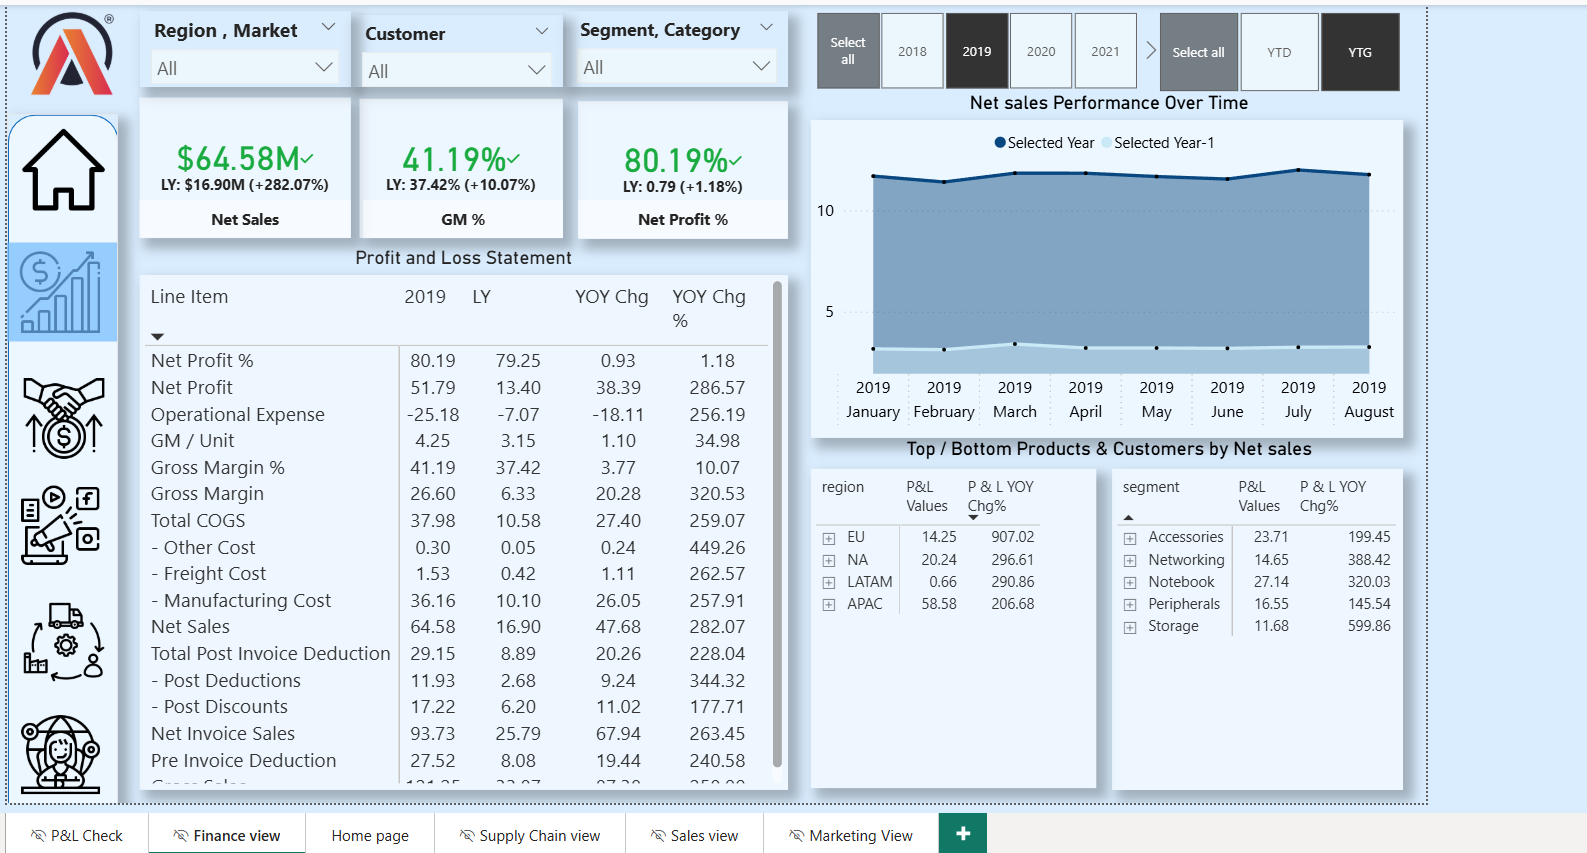

This screenshot's page, from the dashboard's own definition file:
{"tool":"powerbi","page":{"name":"Finance view","canvas":[1280,720],"ordinal":1},"visuals":[{"type":"pivotTable","fields":{"Rows":["P & l Rows.Line Item"],"Columns":["P & L Columns.Col header"],"Values":["Key Measure.P & L Final value"]},"box":[119.5,243.4,584.6,463.7],"z":0},{"type":"slicer","fields":{"Values":["Fiscal_year.FY_Desc"]},"box":[704.2,0,338.4,82.1],"z":1000},{"type":"slicer","fields":{"Values":["dim_date.YTD_YTG"]},"box":[1013.8,0,266.4,85],"z":2000},{"type":"areaChart","fields":{"Category":["dim_date.Date.Variation.Date Hierarchy.Month","dim_date.Date.Variation.Date Hierarchy.Year"],"Y":["Key Measure.P&L Values","Key Measure.P & L LY"]},"box":[724.3,103.7,534.2,286.6],"z":4000},{"type":"pivotTable","fields":{"Rows":["dim_market.region","dim_market.market","dim_customer.customer"],"Values":["Key Measure.P&L Values","Key Measure.P & L YOY Chg%"]},"box":[724.3,417.6,257.8,288],"z":5000},{"type":"pivotTable","fields":{"Rows":["dim_product.segment","dim_product.category"],"Values":["Key Measure.P&L Values","Key Measure.P & L YOY Chg%"]},"box":[996.5,417.6,262.1,289.4],"z":6000},{"type":"card","fields":{"Values":["Key Measure.Performance visual title"]},"box":[724.3,73.4,538.6,30.2],"z":7000},{"type":"card","fields":{"Values":["Key Measure.top/bottom n title"]},"box":[724.3,378.7,534.2,43.2],"z":8000},{"type":"textbox","box":[119.5,210.2,584.6,33.1],"z":9000},{"type":"slicer","fields":{"Values":["dim_market.region","dim_customer.market"]},"box":[119.5,5.8,190.1,67.7],"z":10000},{"type":"slicer","fields":{"Values":["dim_product.segment","dim_product.category"]},"box":[504,5.8,200.2,67.7],"z":11000},{"type":"slicer","fields":{"Values":["dim_customer.customer"]},"box":[309.6,8.6,191.5,64.8],"z":12000},{"type":"kpi","fields":{"Indicator":["Key Measure.NS $"],"Goal":["Key Measure.NS & LY"],"TrendLine":["Fiscal_year.Fiscal_year"]},"box":[119.5,83.5,190.1,126.7],"z":13000},{"type":"textbox","box":[119.5,175.7,190.1,34.6],"z":14000},{"type":"kpi","fields":{"TrendLine":["Fiscal_year.Fiscal_year"],"Indicator":["Key Measure.GM %"],"Goal":["Key Measure.GM% LY"]},"box":[318.2,85,182.9,125.3],"z":15000},{"type":"textbox","box":[321.1,175.7,180,34.6],"z":16000},{"type":"kpi","fields":{"TrendLine":["Fiscal_year.Fiscal_year"],"Indicator":["Key Measure.Net Profit %"],"Goal":["Key Measure.Net Profit % Ly"]},"box":[515.5,86.4,188.6,123.8],"z":17000},{"type":"textbox","box":[515.5,175.7,188.6,34.6],"z":18000},{"type":"shape","box":[0,98.3,100,741.4],"z":19000},{"type":"image","box":[7.2,214.6,83.5,89.3],"z":20000},{"type":"image","box":[8.6,529.9,85,89.3],"z":21000},{"type":"image","box":[5.8,424.8,85,89.3],"z":22000},{"type":"image","box":[8.6,328.3,85,89.3],"z":23000},{"type":"image","box":[7.2,630.7,83.5,89.3],"z":24000},{"type":"image","box":[0,0,119,86.2],"z":25000},{"type":"image","box":[8.6,103.7,84,89.3],"z":26000},{"type":"shape","box":[0,214.6,99.4,89.3],"z":27000}]}

Visuals, with their boxes on the page's 1280x720 design canvas (x1, y1, x2, y2). These are canvas units, not pixel positions in the 1587x853 screenshot, which may show the page scaled, cropped or inside an application window:
pivotTable - P & l Rows.Line Item x P & L Columns.Col header: box=[120, 243, 704, 707]
slicer - Fiscal_year.FY_Desc: box=[704, 0, 1043, 82]
slicer - dim_date.YTD_YTG: box=[1014, 0, 1280, 85]
areaChart - dim_date.Date.Variation.Date Hierarchy.Month x dim_date.Date.Variation.Date Hierarchy.Year: box=[724, 104, 1258, 390]
pivotTable - dim_market.region x dim_market.market: box=[724, 418, 982, 706]
pivotTable - dim_product.segment x dim_product.category: box=[996, 418, 1259, 707]
card - Key Measure.Performance visual title: box=[724, 73, 1263, 104]
card - Key Measure.top/bottom n title: box=[724, 379, 1258, 422]
textbox: box=[120, 210, 704, 243]
slicer - dim_market.region x dim_customer.market: box=[120, 6, 310, 74]
slicer - dim_product.segment x dim_product.category: box=[504, 6, 704, 74]
slicer - dim_customer.customer: box=[310, 9, 501, 73]
kpi - Key Measure.NS $ x Key Measure.NS & LY: box=[120, 84, 310, 210]
textbox: box=[120, 176, 310, 210]
kpi - Fiscal_year.Fiscal_year x Key Measure.GM %: box=[318, 85, 501, 210]
textbox: box=[321, 176, 501, 210]
kpi - Fiscal_year.Fiscal_year x Key Measure.Net Profit %: box=[516, 86, 704, 210]
textbox: box=[516, 176, 704, 210]
shape: box=[0, 98, 100, 840]
image: box=[7, 215, 91, 304]
image: box=[9, 530, 94, 619]
image: box=[6, 425, 91, 514]
image: box=[9, 328, 94, 418]
image: box=[7, 631, 91, 720]
image: box=[0, 0, 119, 86]
image: box=[9, 104, 93, 193]
shape: box=[0, 215, 99, 304]
